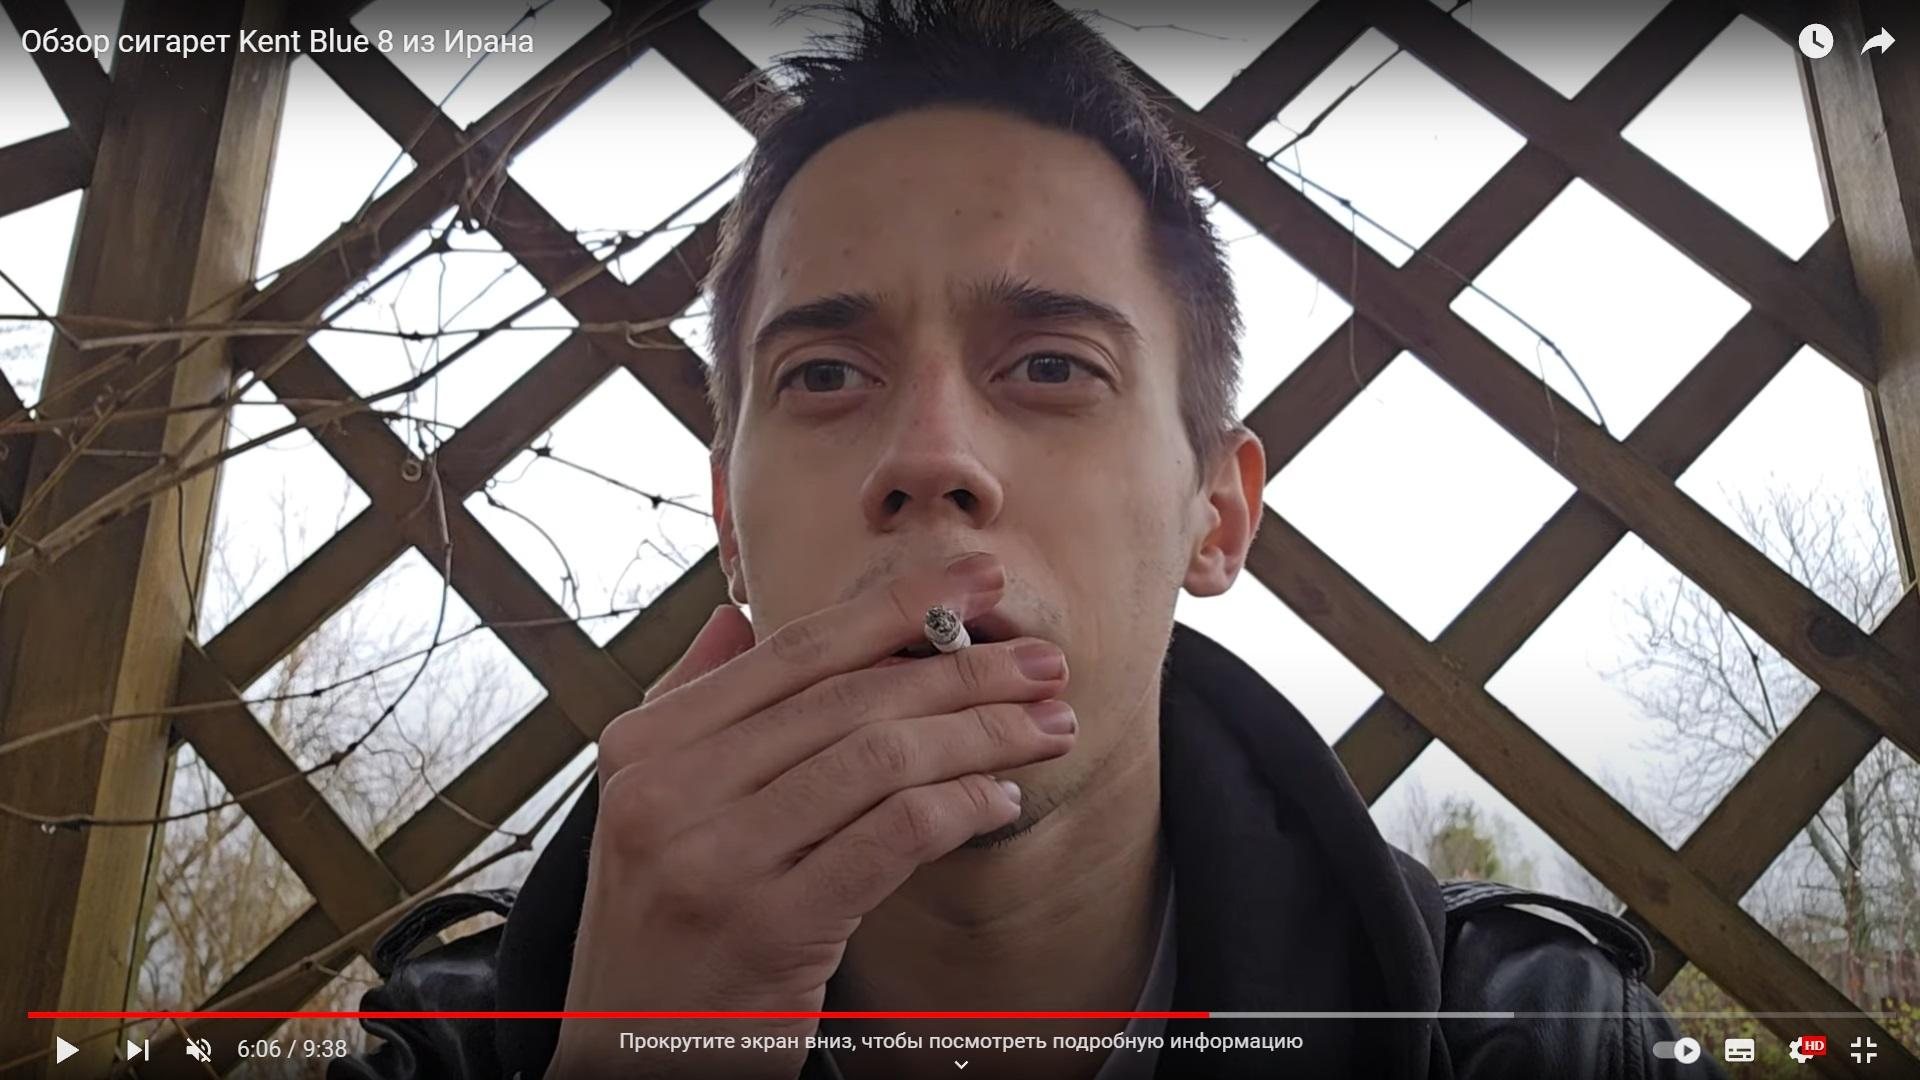cigarette: (923, 604, 972, 653)
